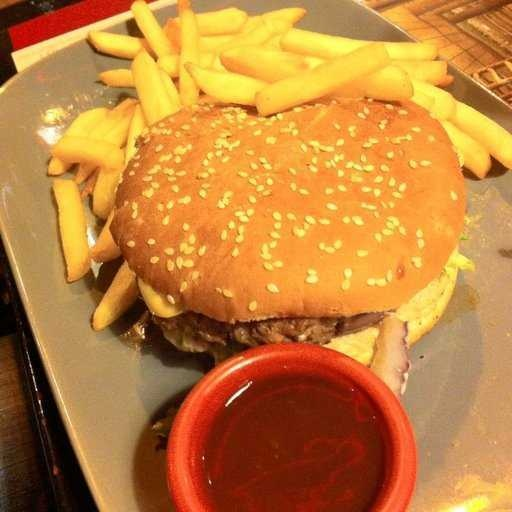hamburger: (113, 68, 459, 361)
